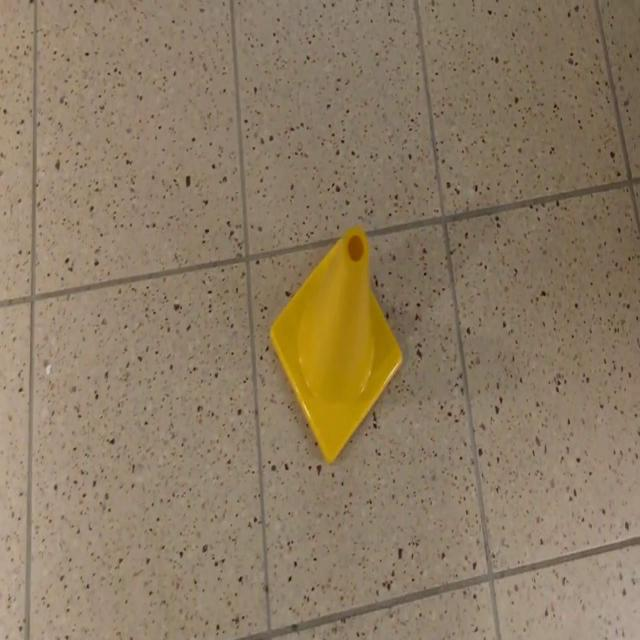frc_cone: (268, 222, 404, 468)
